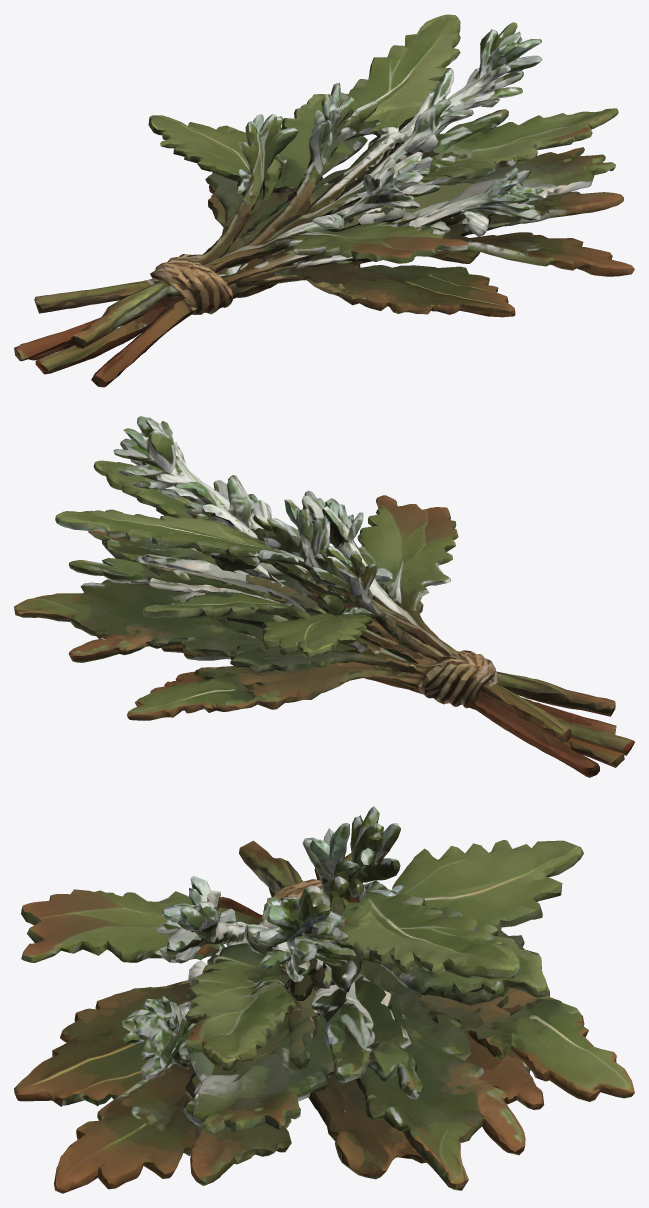
File: item_spirit_herb.glb
3 views of the same model, one above another, from view 1: azimuth 30°, elevation 25°; view 2: azimuth 150°, elevation 25°; view 3: azimuth 270°, elevation 25° (orthographic). The views are drawn at different scales.
Parts seen in each view (by area): view 1: item_spirit_herb; view 2: item_spirit_herb; view 3: item_spirit_herb.
Part boxes in pixels (box(x1,y1,x2,y2)): item_spirit_herb: box(14, 14, 634, 387); item_spirit_herb: box(14, 416, 634, 777); item_spirit_herb: box(14, 806, 634, 1193).
Size of the model in its own units: 0.2 by 0.0782 by 0.1331.
1 material, 1 textured.
